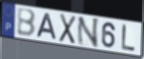6: (101, 21, 117, 49)
A: (36, 12, 58, 41)
B: (17, 8, 37, 39)
L: (121, 24, 137, 53)
N: (76, 17, 100, 49)
X: (58, 12, 77, 46)
